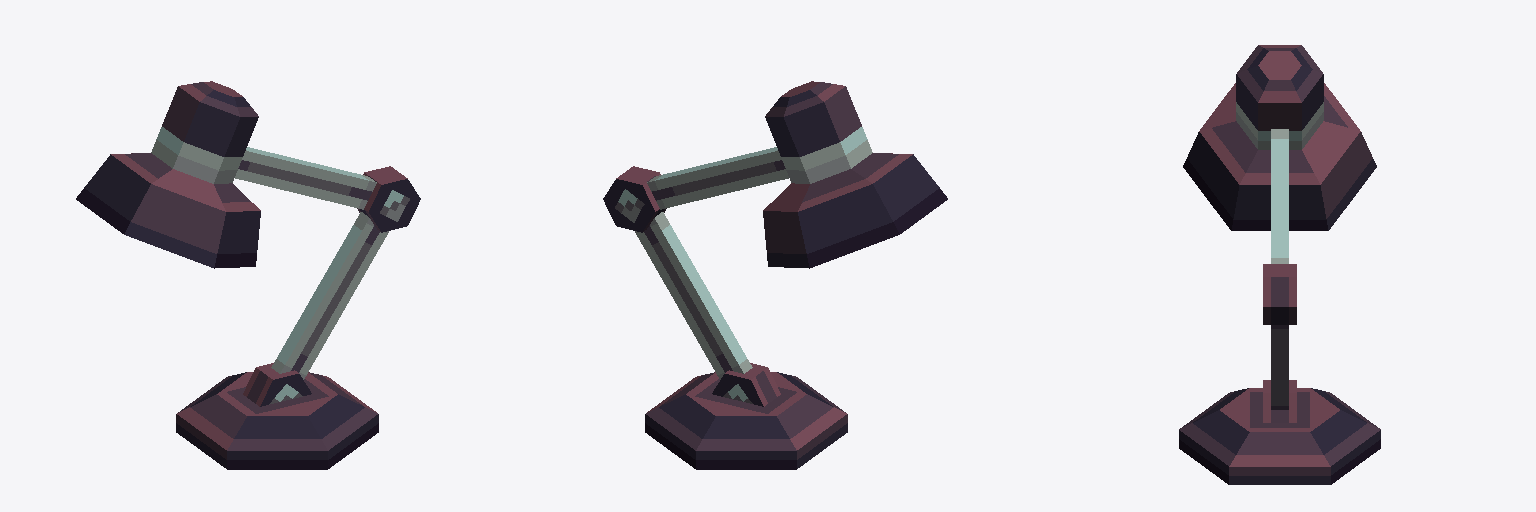
3 renders of one model, left to right at view 1: azimuth 30°, elevation 25°; view 2: azimuth 150°, elevation 25°; view 3: azimuth 270°, elevation 25°, orthographic.
Visible parts, largest first — view 1: prop_desklamp_obj; view 2: prop_desklamp_obj; view 3: prop_desklamp_obj.
Part boxes in pixels (left/top/right/bottom): prop_desklamp_obj: left=76, top=81, right=420, bottom=469; prop_desklamp_obj: left=603, top=81, right=947, bottom=469; prop_desklamp_obj: left=1179, top=45, right=1380, bottom=484.
Size of the model in its own units: 0.6688 by 0.7429 by 0.3748.
1 materials, 1 textured.